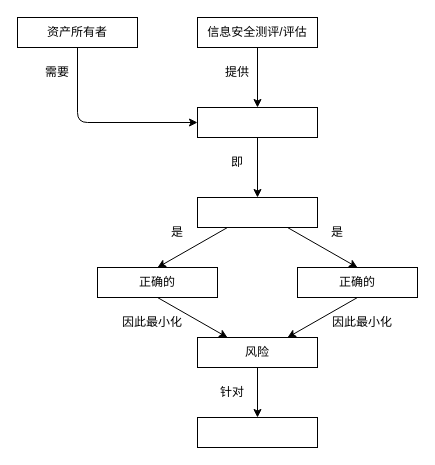
This 435x465 diagram has some shape labels left out. Here are the shapes that lost their labels. From the top down, the centre of each, then its label:
At (257,122): "信心".
At (257,212): "对策".
At (257,432): "资产".
